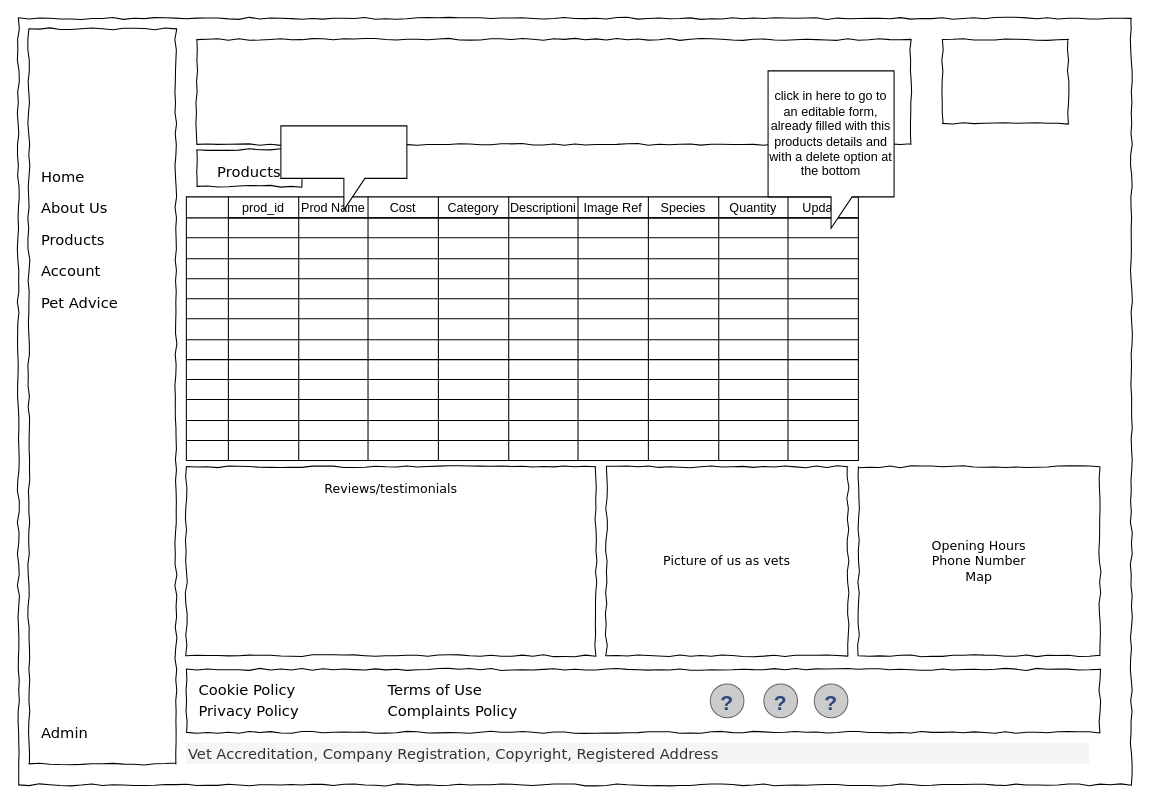
The diagram is 1150 pixels wide and 803 high, and some of its shapes have lost their labels. Each missing label, with the centre of its shape:
"Logout" belongs at pixel 1004 80.
"Sort (or better still filter) by any of the headings" belongs at pixel 343 167.
"Vet Clinic Name" belongs at pixel 553 91.
